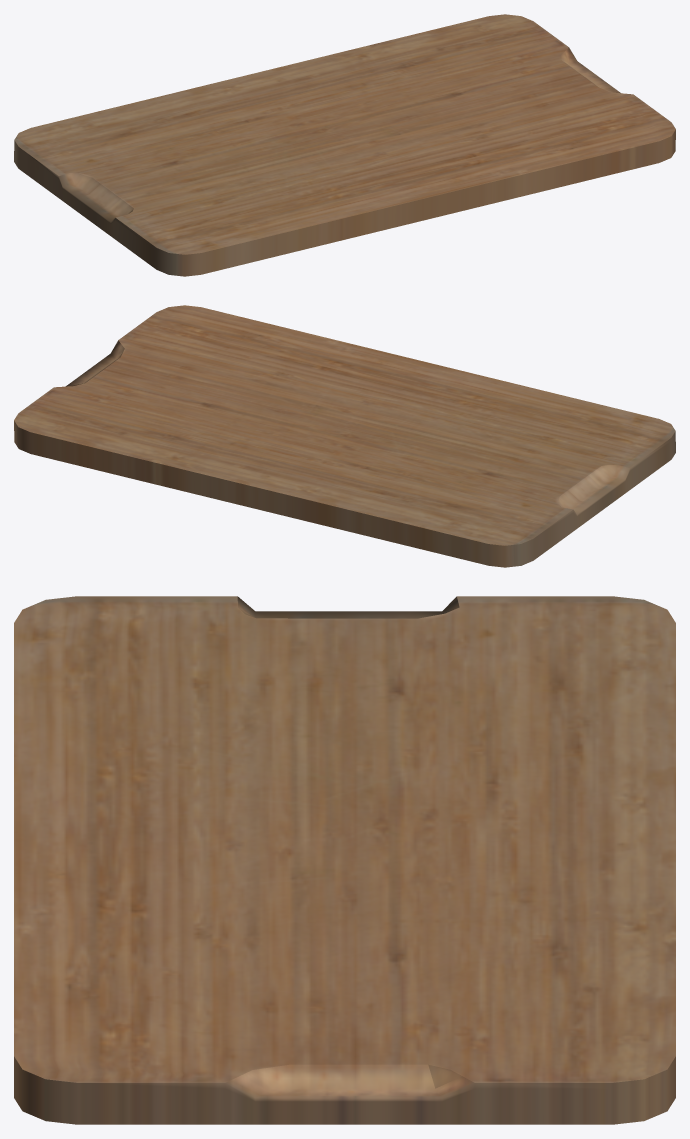
The model's file is cutting_board.glb.
3 renders of one model, top to bottom at view 1: azimuth 30°, elevation 25°; view 2: azimuth 150°, elevation 25°; view 3: azimuth 270°, elevation 25°, orthographic. The views are drawn at different scales.
Visible parts, largest first — view 1: CuttingBoard; view 2: CuttingBoard; view 3: CuttingBoard.
Boxes of the visible parts, x1,y1,x2,y2 form: CuttingBoard: [14, 14, 675, 276]; CuttingBoard: [14, 305, 675, 567]; CuttingBoard: [14, 596, 675, 1124].
Size of the model in its own units: 0.4438 by 0.0179 by 0.2549.
1 material, 1 textured.
